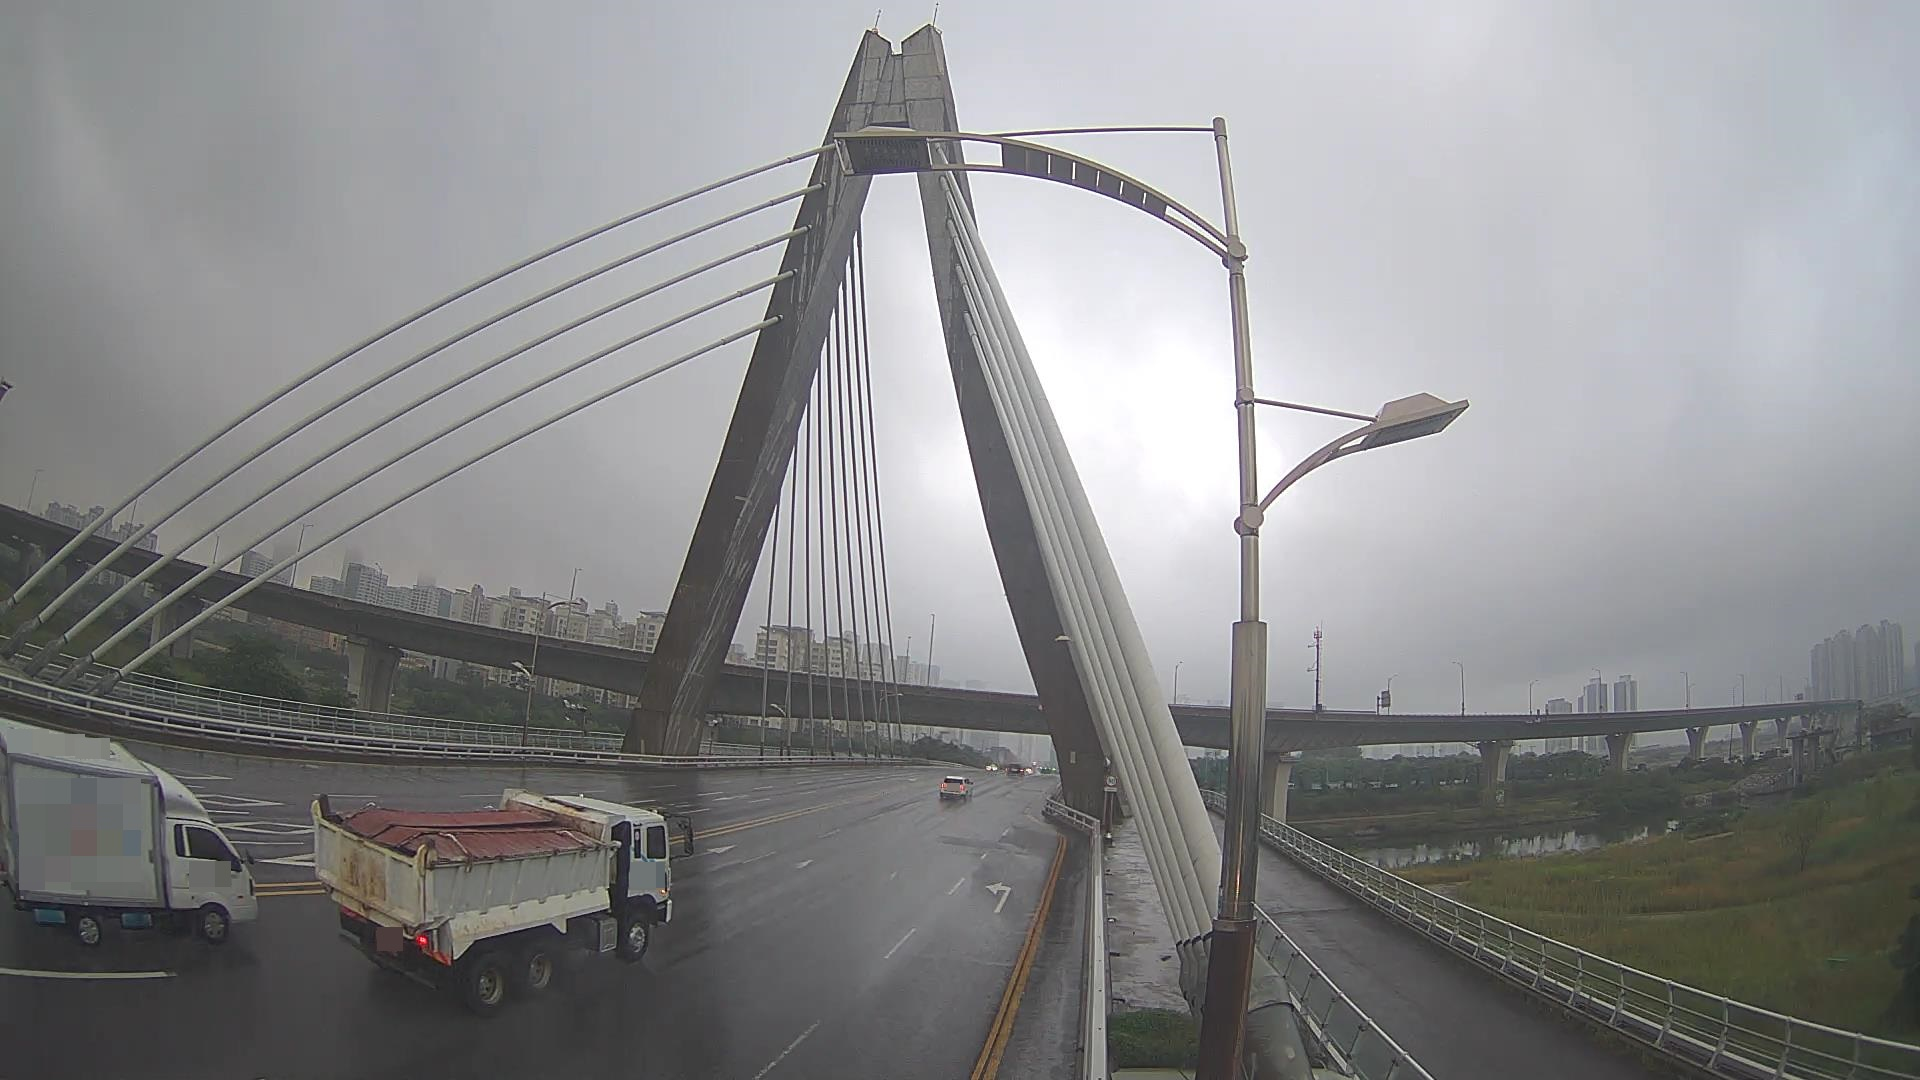정상차량: (310, 787, 694, 1017)
